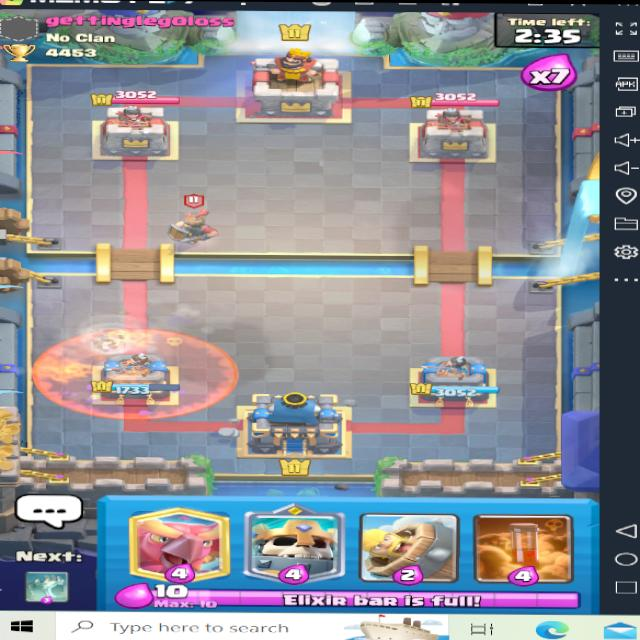poison: (34, 321, 239, 421)
royal-recruits: (170, 195, 226, 250)
